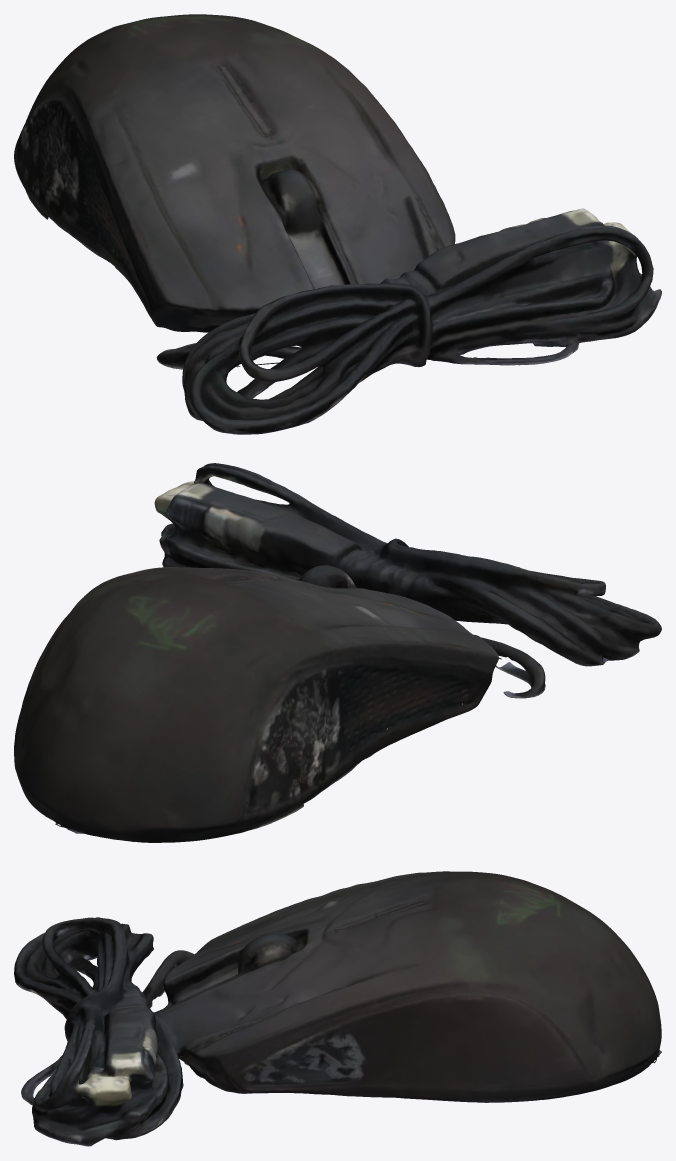
Rendered from Razer_Abyssus_Ambidextrous_Gaming_Mouse.glb.
The picture shows the model from 3 angles, top to bottom: view 1: azimuth 30°, elevation 25°; view 2: azimuth 150°, elevation 25°; view 3: azimuth 270°, elevation 25°; orthographic projection. The views are drawn at different scales.
Parts seen in each view (by area): view 1: geometry_0; view 2: geometry_0; view 3: geometry_0.
Part boxes in pixels (x1,y1,x2,y2): geometry_0: (14, 14, 661, 434); geometry_0: (14, 463, 661, 842); geometry_0: (14, 871, 661, 1146).
Bounding box in the file's own units: 0.7629 × 0.2609 × 0.9988.
Materials: 1 (1 with a texture image).
